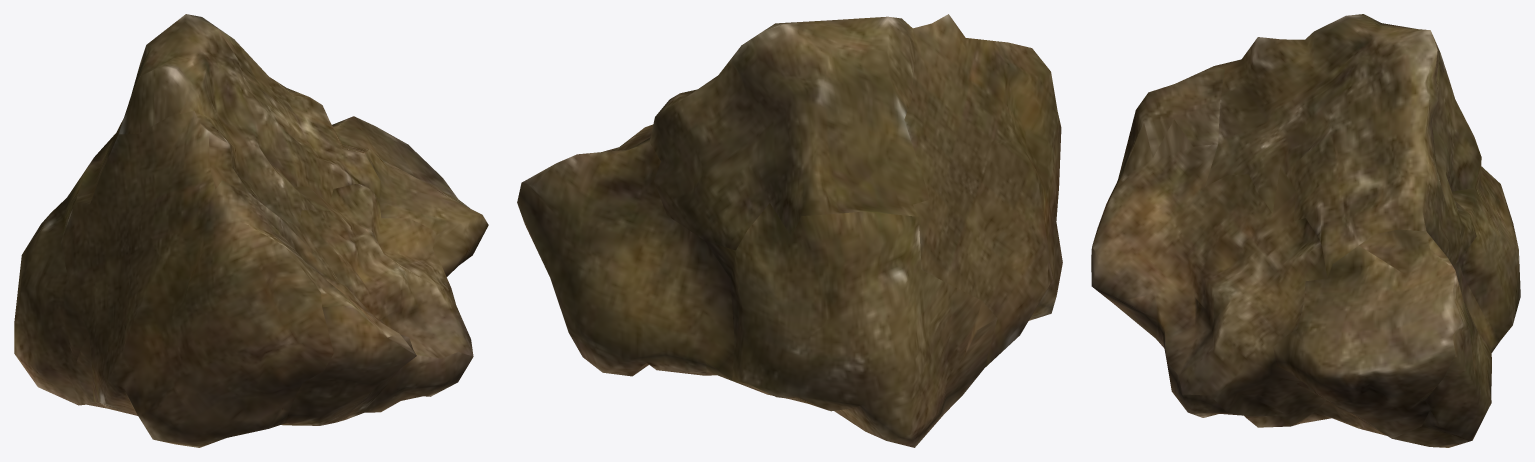
Rendered from rocks_4.gltf.
The picture shows the model from 3 angles, left to right: view 1: azimuth 30°, elevation 25°; view 2: azimuth 150°, elevation 25°; view 3: azimuth 270°, elevation 25°; orthographic projection. The views are drawn at different scales.
Parts seen in each view (by area): view 1: rock_moss_set_01_rock04; view 2: rock_moss_set_01_rock04; view 3: rock_moss_set_01_rock04.
Boxes of the visible parts, x1,y1,x2,y2 form: rock_moss_set_01_rock04: [14, 14, 488, 447]; rock_moss_set_01_rock04: [517, 14, 1062, 447]; rock_moss_set_01_rock04: [1091, 14, 1520, 447].
Bounding box in the file's own units: 2.13 × 1.76 × 1.96.
Materials: 1 (1 with a texture image).
